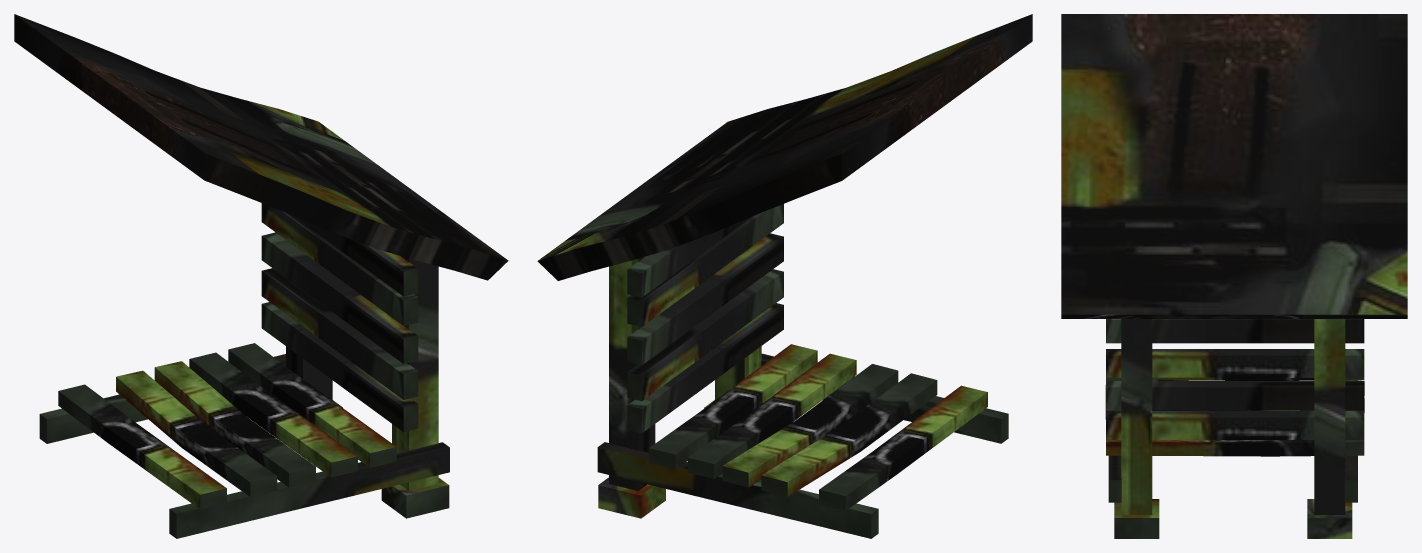
The model's file is supa_drvarnica.glb.
3 views of the same model, side by side, from view 1: azimuth 30°, elevation 25°; view 2: azimuth 150°, elevation 25°; view 3: azimuth 270°, elevation 25° (orthographic). The views are drawn at different scales.
Parts seen in each view (by area): view 1: Woodshed_1_aiStandardSurface7_0; view 2: Woodshed_1_aiStandardSurface7_0; view 3: Woodshed_1_aiStandardSurface7_0.
Boxes of the visible parts, left/top/right/bottom form: Woodshed_1_aiStandardSurface7_0: left=14, top=14, right=508, bottom=538; Woodshed_1_aiStandardSurface7_0: left=537, top=14, right=1032, bottom=538; Woodshed_1_aiStandardSurface7_0: left=1061, top=14, right=1407, bottom=538.
Size of the model in its own units: 83.15 by 115 by 89.48.
1 material, 1 textured.
